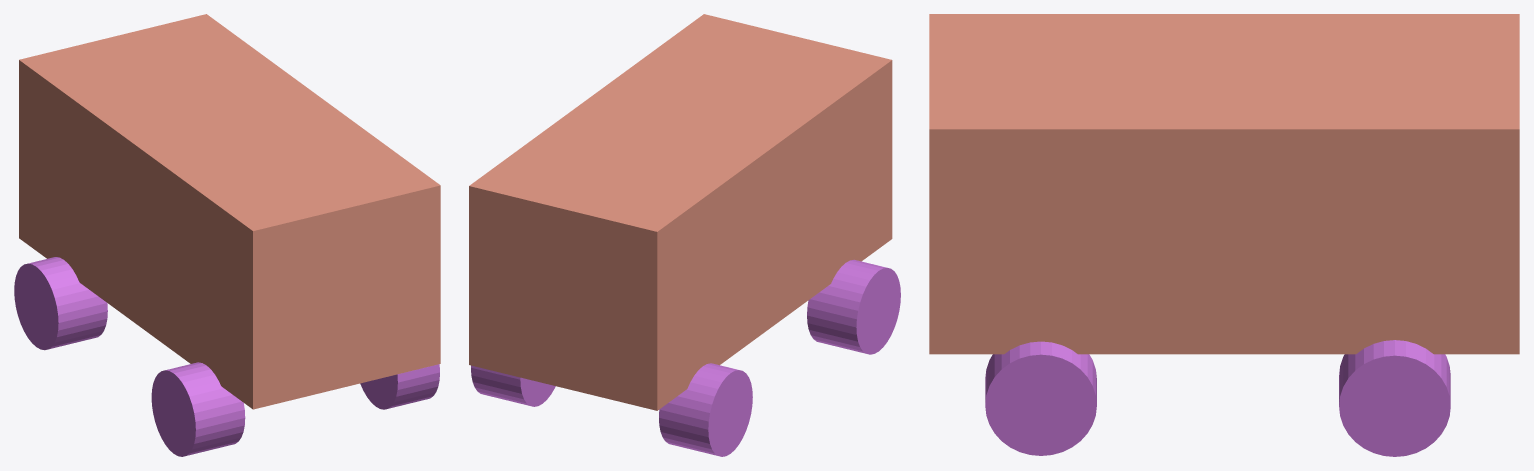
The model's file is bus.glb.
The picture shows the model from 3 angles, left to right: view 1: azimuth 30°, elevation 25°; view 2: azimuth 150°, elevation 25°; view 3: azimuth 270°, elevation 25°; orthographic projection. The views are drawn at different scales.
Parts seen in each view (by area): view 1: Cube, Цилиндр.004, Цилиндр.005, Цилиндр.002; view 2: Cube, Цилиндр.004, Цилиндр.005, Цилиндр.001; view 3: Cube, Цилиндр.001, Цилиндр.002.
Boxes of the visible parts, bbox=[...] form: Cube: bbox=[19, 14, 440, 409]; Цилиндр.004: bbox=[151, 362, 245, 456]; Цилиндр.005: bbox=[14, 257, 107, 350]; Цилиндр.002: bbox=[360, 364, 439, 409]; Cube: bbox=[469, 14, 892, 410]; Цилиндр.004: bbox=[807, 259, 900, 354]; Цилиндр.005: bbox=[659, 363, 752, 456]; Цилиндр.001: bbox=[471, 365, 555, 406]; Cube: bbox=[929, 14, 1519, 354]; Цилиндр.001: bbox=[1339, 340, 1450, 456]; Цилиндр.002: bbox=[985, 341, 1096, 455].
Bounding box in the file's own units: 3.2 × 3.09 × 5.28.
